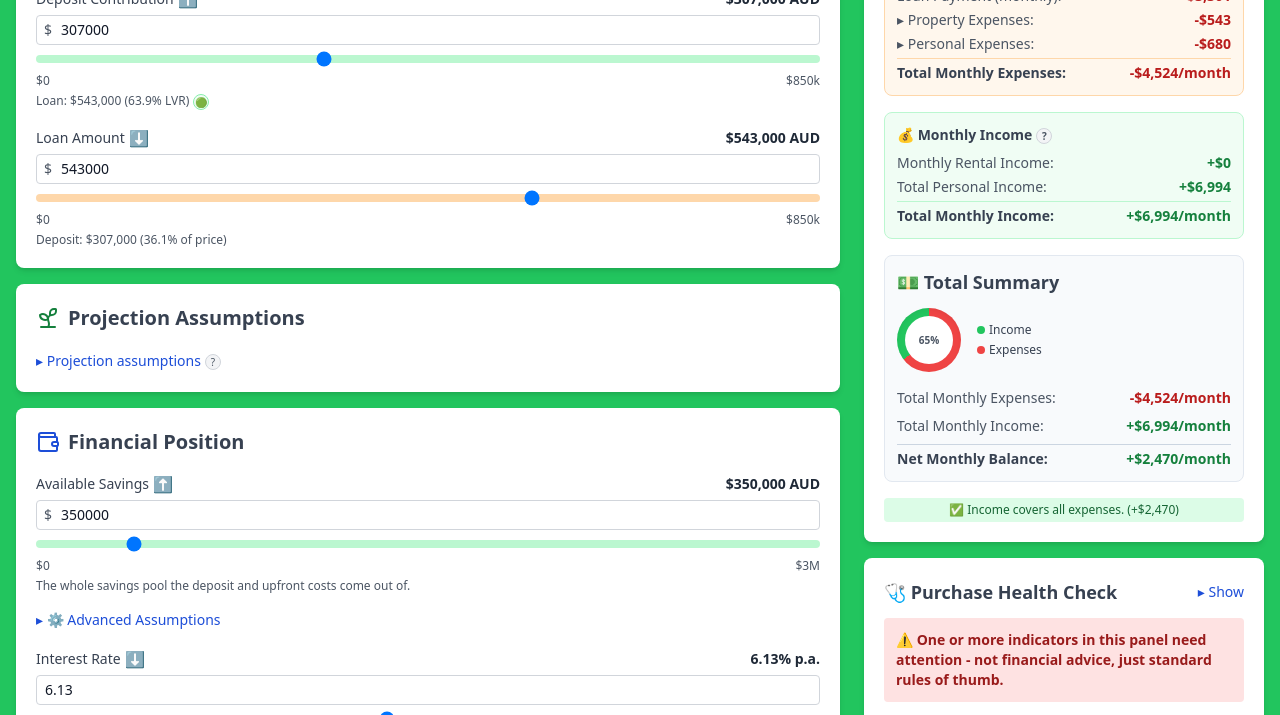
Test case: Projection Assumptions card (TODO-141) › starts collapsed and reveals the 7 assumption sliders at their documented defaults
This screenshot has width=1280, height=715.
(page scrolled)
What coordinates should you click on to do the following:
click the button "▸ Projection assumptions"
I would click on:
 (118, 361)
Its box is 36,351 -> 201,371.
(page scrolled)
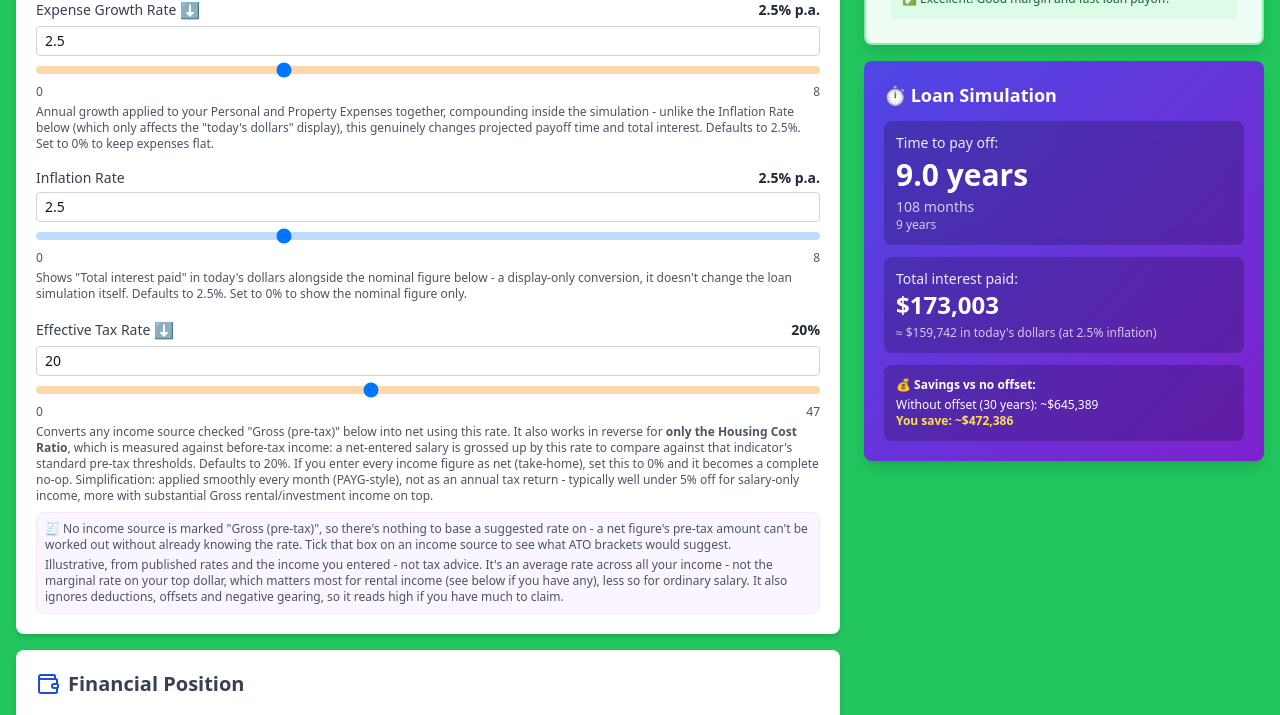
expect the number field labelled "Expense Growth Rate" holds "2.5": met, box 36,26 -> 820,56
expect the number field labelled "Inflation Rate" holds "2.5": met, box 36,192 -> 820,222
expect the number field labelled "Effective Tax Rate" holds "20": met, box 36,346 -> 820,376
